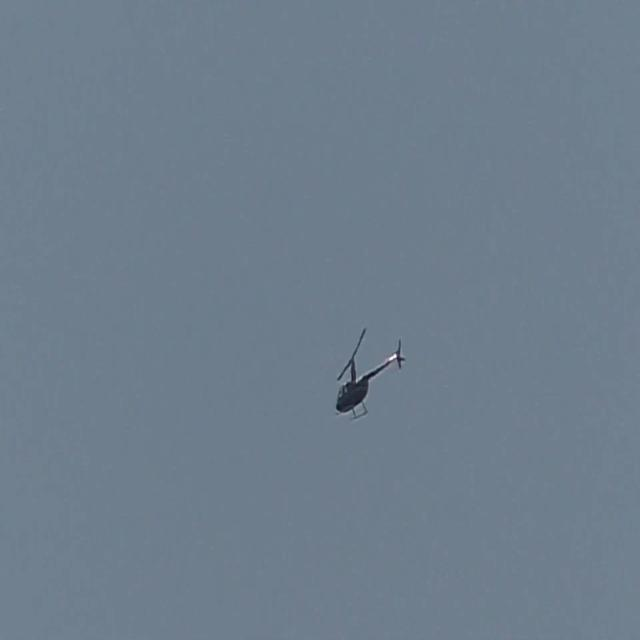CIV_HELO: (334, 336, 407, 422)
